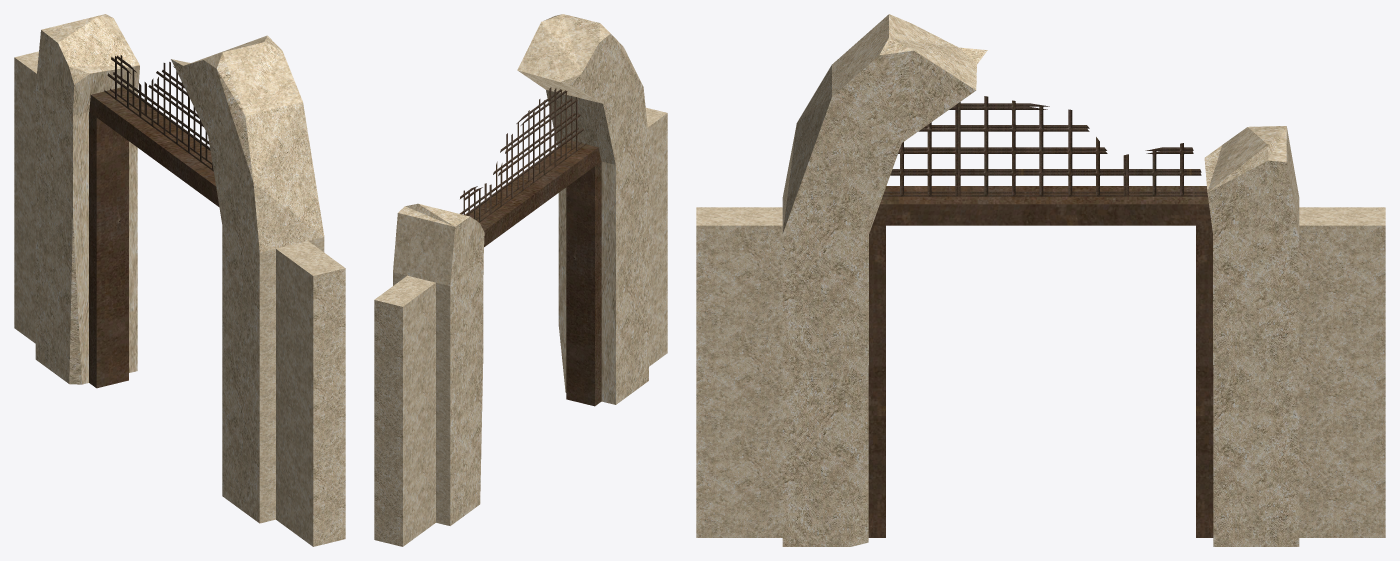
The model's file is thm_tato_imprv_wallgate_s02_l1.fbx.
3 renders of one model, left to right at view 1: azimuth 30°, elevation 25°; view 2: azimuth 150°, elevation 25°; view 3: azimuth 270°, elevation 25°, orthographic. The views are drawn at different scales.
Visible parts, largest first — view 1: mesh_node; view 2: mesh_node; view 3: mesh_node.
Part boxes in pixels (x1,y1,x2,y2): mesh_node: [14, 14, 345, 546]; mesh_node: [374, 14, 667, 546]; mesh_node: [696, 14, 1385, 546].
Bounding box in the file's own units: 1 × 6.43 × 8.
